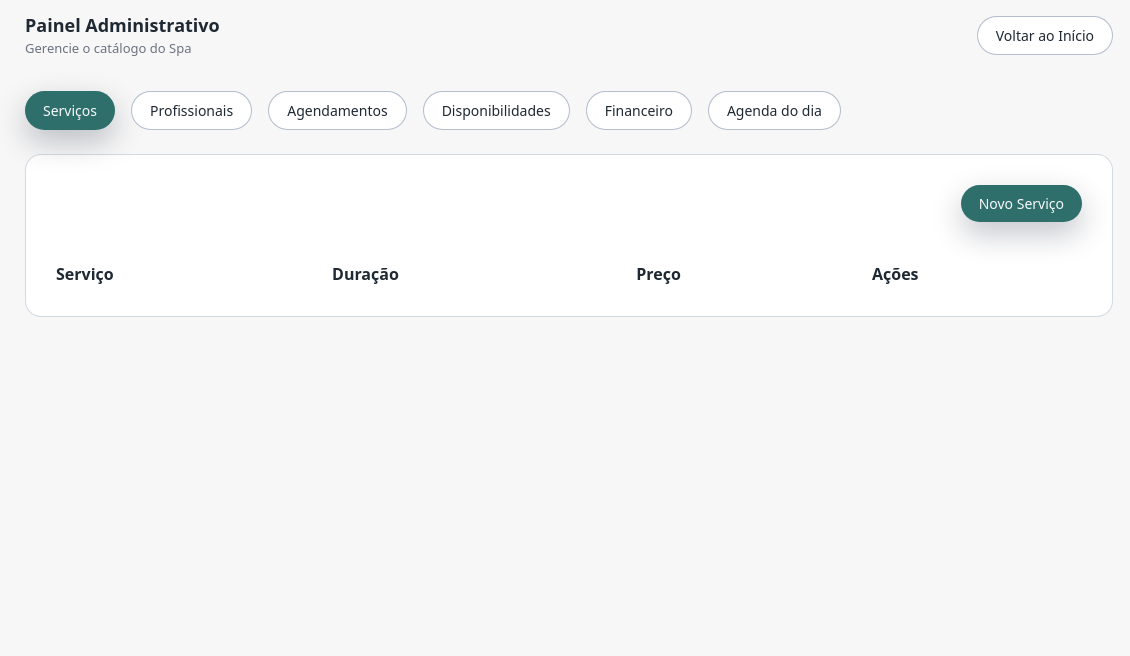
Test: blocks_tab_shows_interval_and_reason › blocks_tab_shows_interval_and_reason
The image size is (1130, 656).
Click the button "Disponibilidades" at (496, 110), box [423,90,570,130]
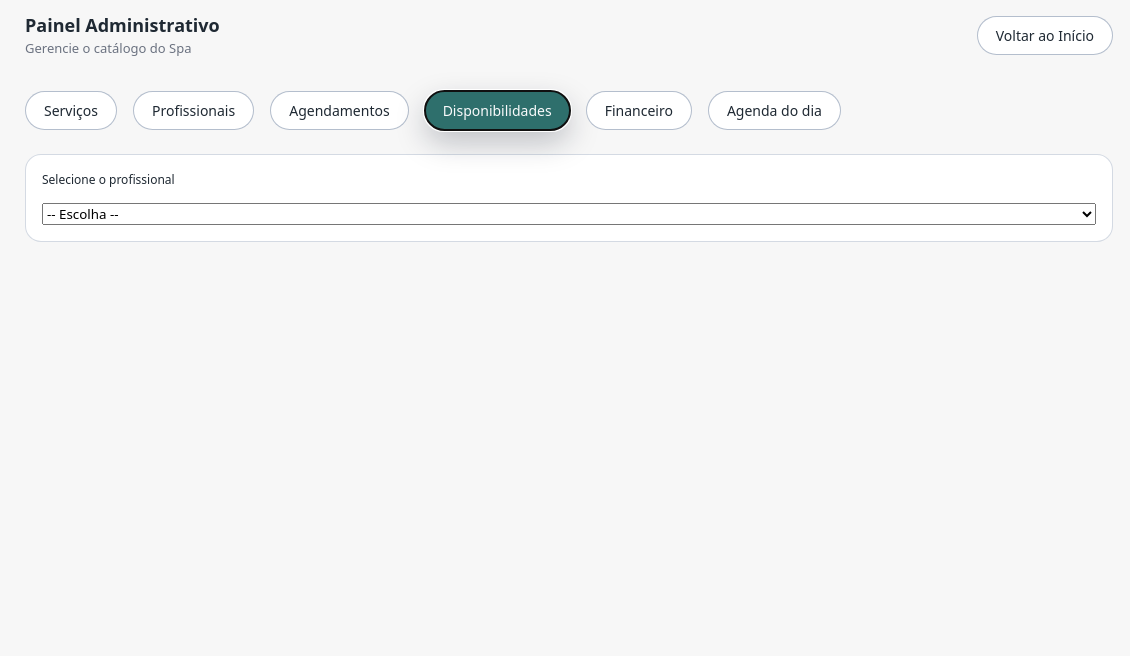
Select "Ana" in the dropdown at (569, 214), box [42,202,1096,224]
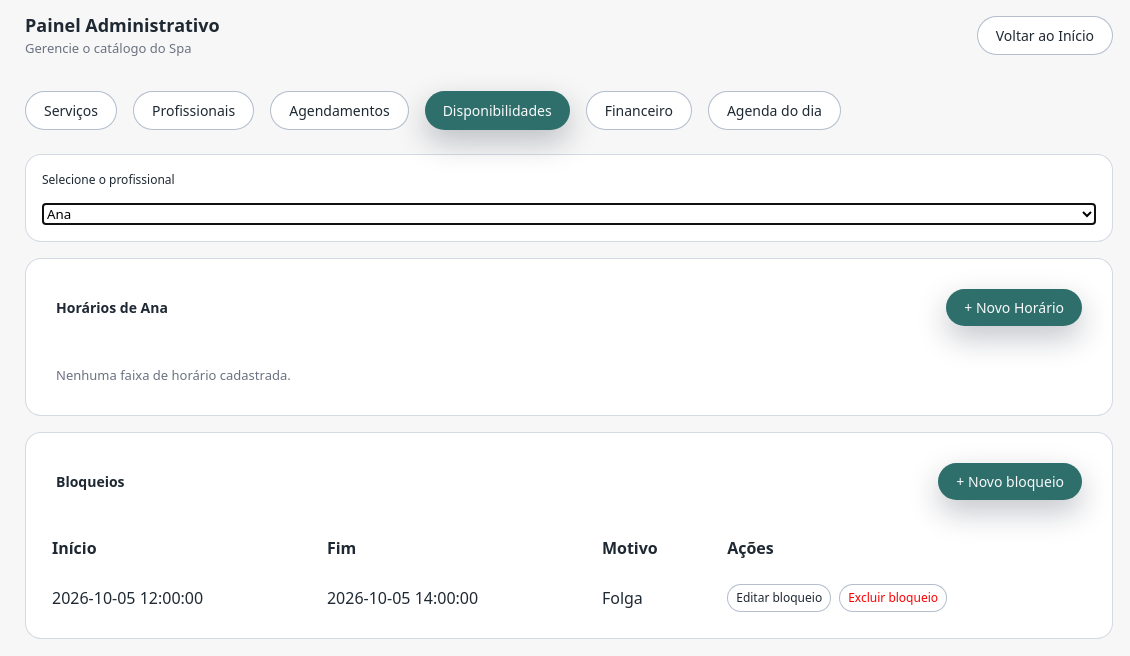
Result: the text "2026-10-05 12:00:00" is shown at [40,572,315,624]
Result: the text "2026-10-05 14:00:00" is shown at [315,572,590,624]
Result: the text "Folga" is shown at [590,572,715,624]
